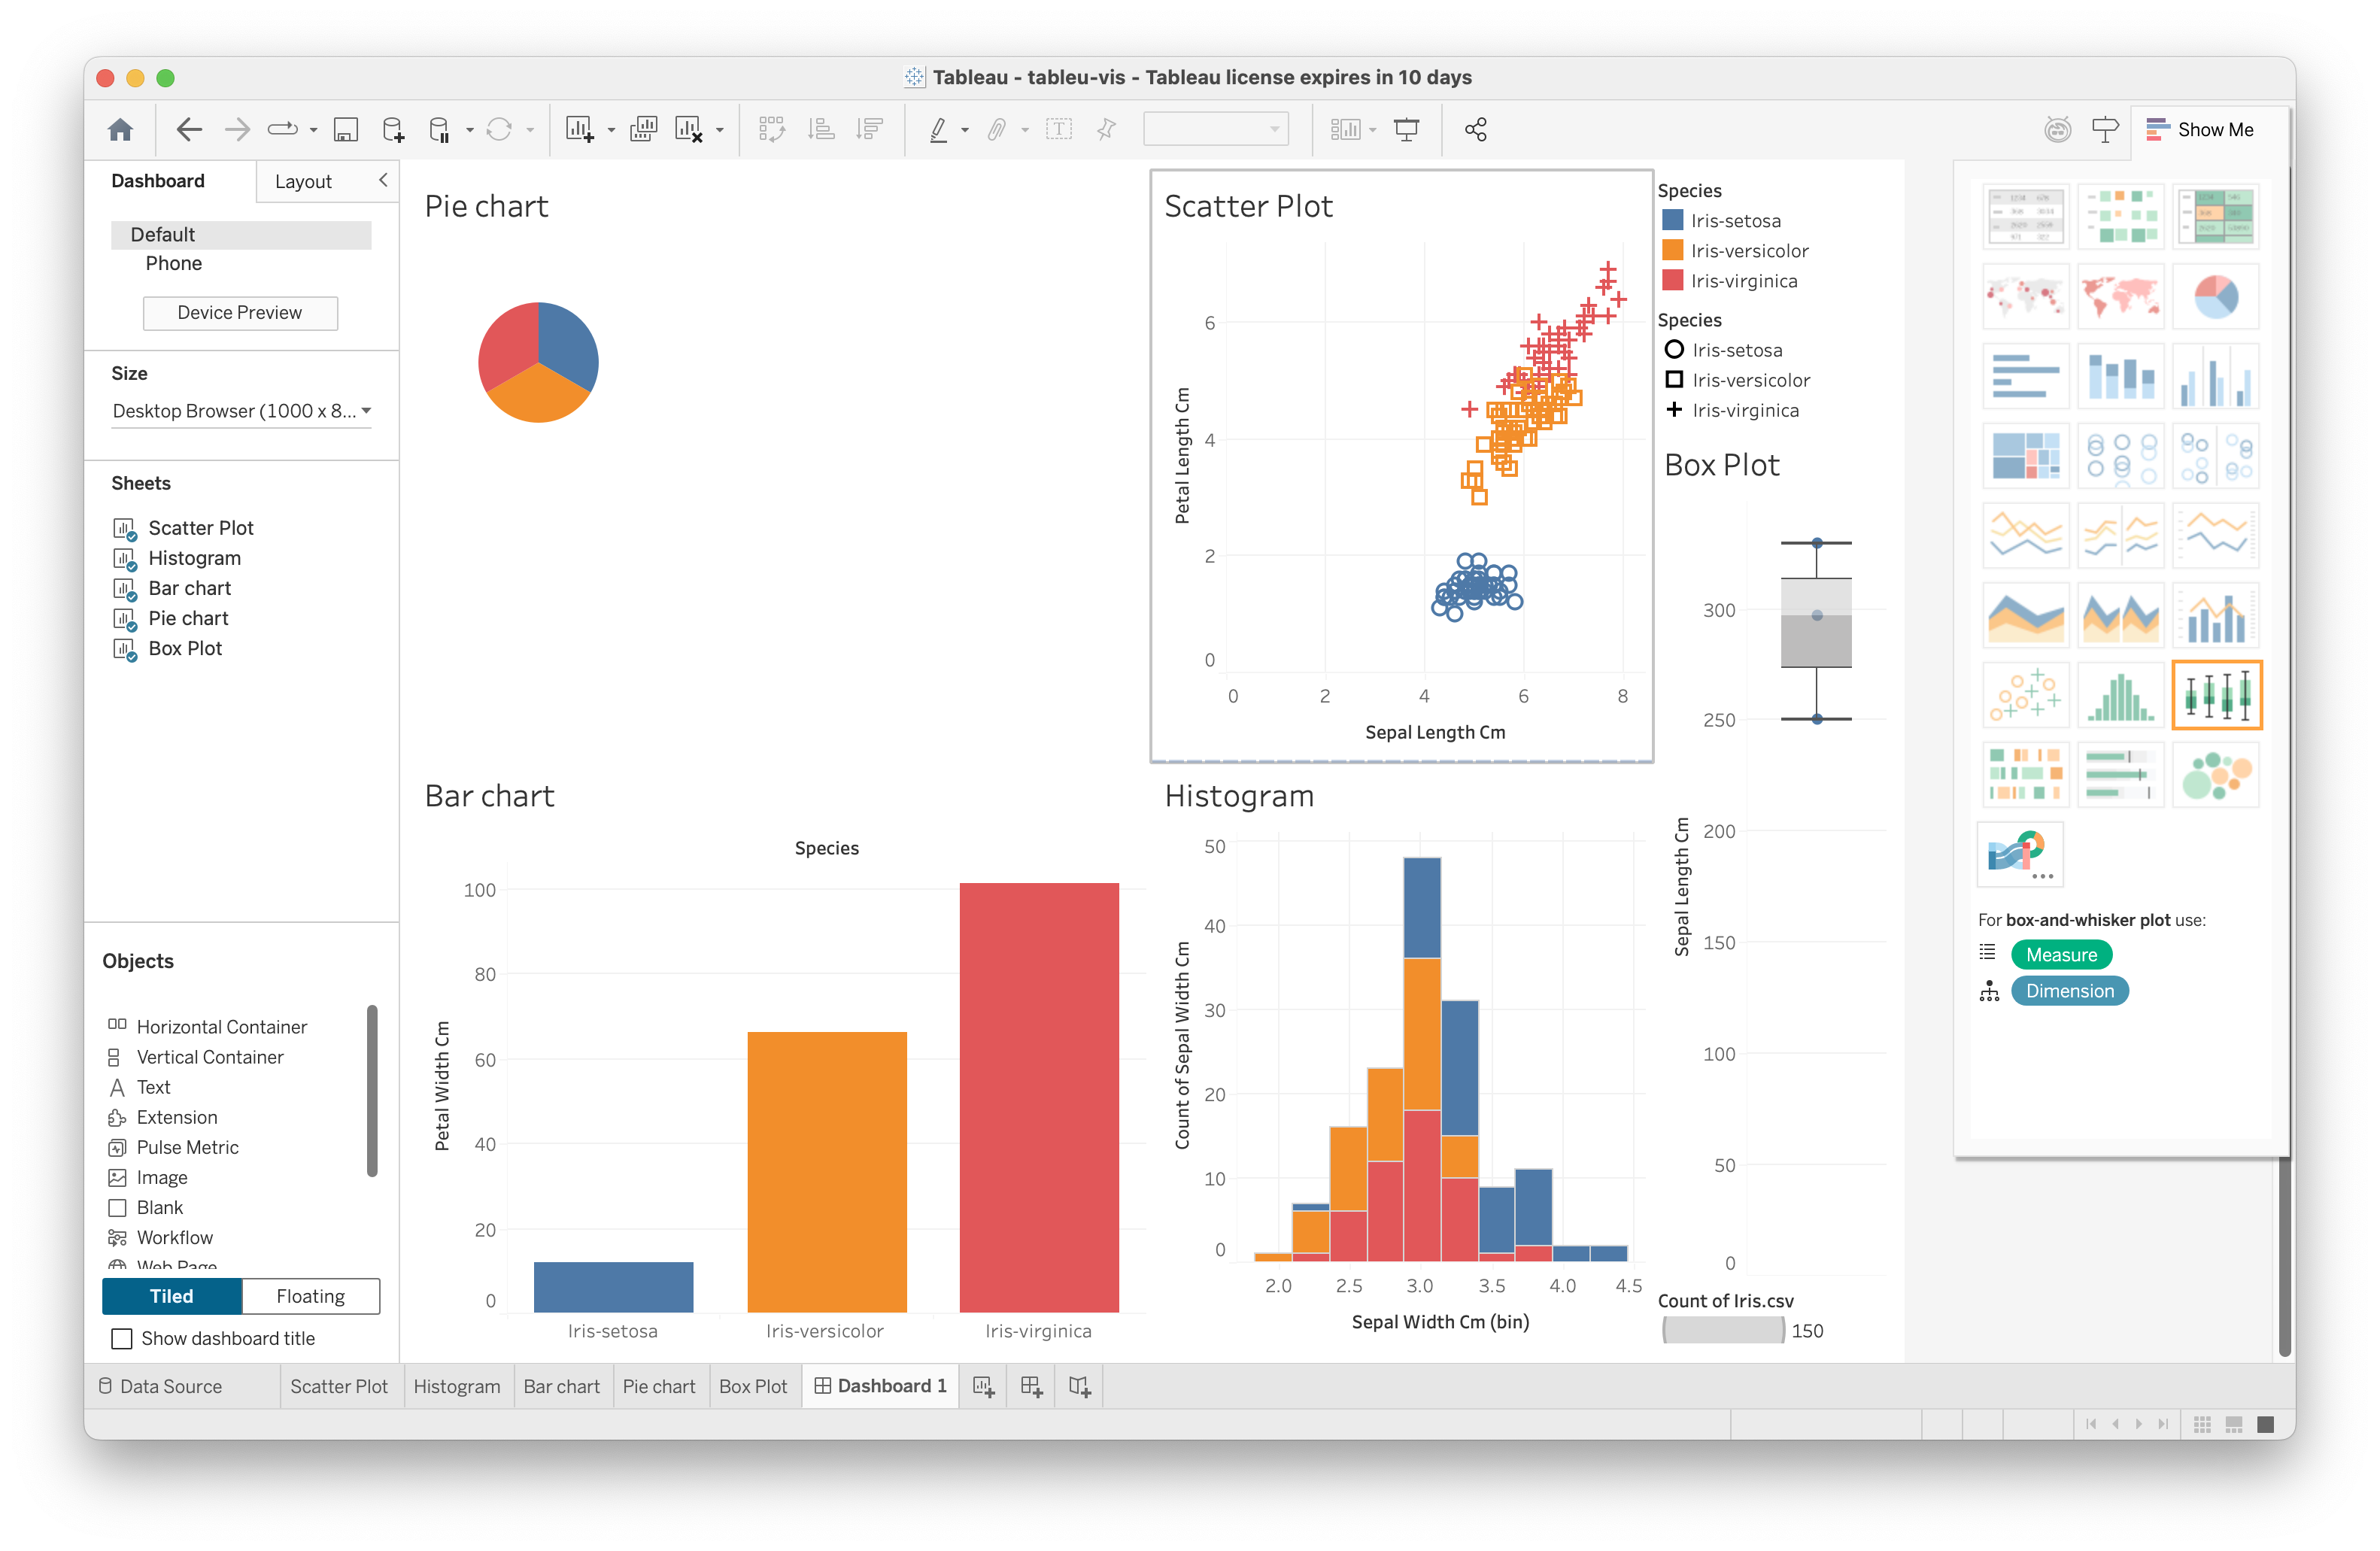

The page's visual inventory and layout, read from the dashboard file:
{"tool":"tableau","page":{"name":"Dashboard 1","canvas":[1000,800],"ordinal":0},"visuals":[{"type":"worksheet","title":"Pie chart","mark":"Pie","box":[8,8,492,392]},{"type":"worksheet","title":"Scatter Plot","mark":"Automatic","rows":["PetalLengthCm"],"cols":["SepalLengthCm"],"box":[500,8,332,392]},{"type":"legend","title":"Scatter Plot","param":"[federated.16eqgle0auffla13whhcl15y2ns6].[none:Species:nk]","box":[832,8,160,86]},{"type":"legend","title":"Scatter Plot","param":"[federated.16eqgle0auffla13whhcl15y2ns6].[none:Species:nk]","box":[832,94,160,86]},{"type":"worksheet","title":"Box Plot","mark":"Circle","rows":["SepalLengthCm"],"box":[832,180,160,566]},{"type":"worksheet","title":"Bar chart","mark":"Automatic","rows":["PetalWidthCm"],"cols":["Species"],"box":[8,400,492,392]},{"type":"worksheet","title":"Histogram","mark":"Automatic","rows":["SepalWidthCm"],"cols":["Sepal Width Cm (bin)"],"box":[500,400,332,392]},{"type":"legend","title":"Pie chart","param":"[federated.16eqgle0auffla13whhcl15y2ns6].[__tableau_internal_object_id__].[cnt:I","box":[832,746,160,46]}]}

Visuals, with their boxes on the page's 1000x800 design canvas (x1, y1, x2, y2). These are canvas units, not pixel positions in the 2380x1551 screenshot, which may show the page scaled, cropped or inside an application window:
"Pie chart" worksheet (Pie marks): detection(8, 8, 500, 400)
"Scatter Plot" worksheet: detection(500, 8, 832, 400)
"Scatter Plot" legend: detection(832, 8, 992, 94)
"Scatter Plot" legend: detection(832, 94, 992, 180)
"Box Plot" worksheet (Circle marks): detection(832, 180, 992, 746)
"Bar chart" worksheet: detection(8, 400, 500, 792)
"Histogram" worksheet: detection(500, 400, 832, 792)
"Pie chart" legend: detection(832, 746, 992, 792)
